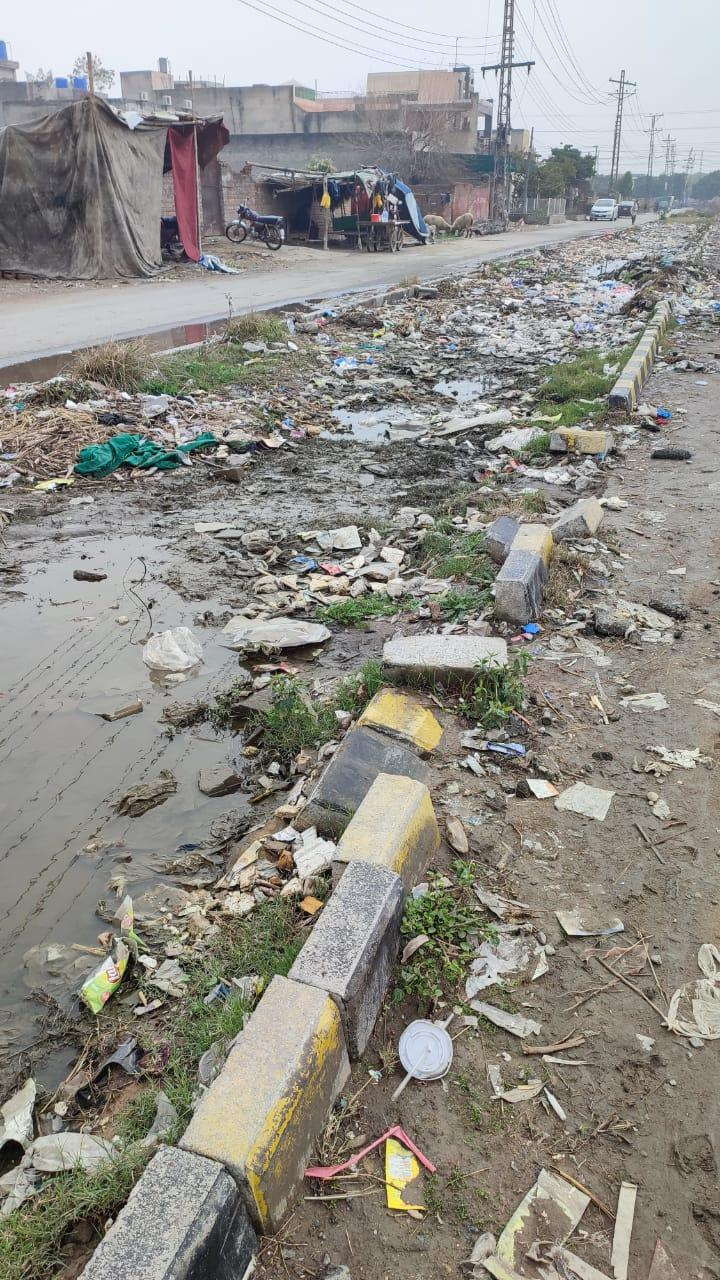garbage: (183, 228, 720, 1280)
